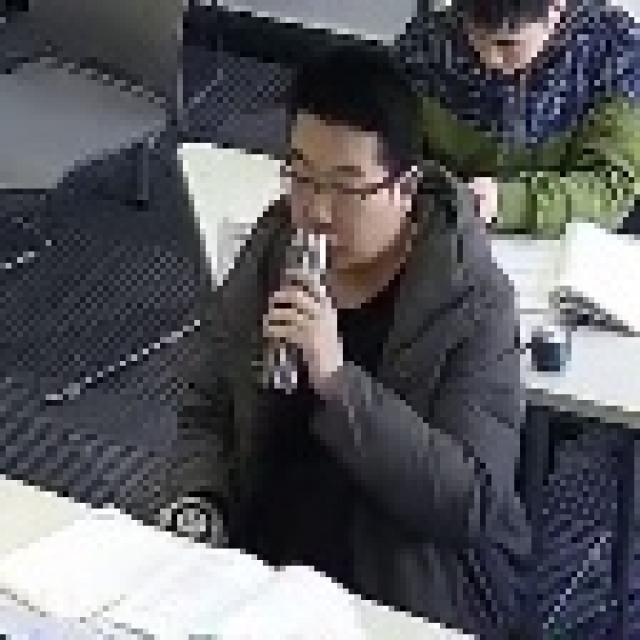drink: (187, 46, 513, 640)
phone: (389, 0, 634, 217)
